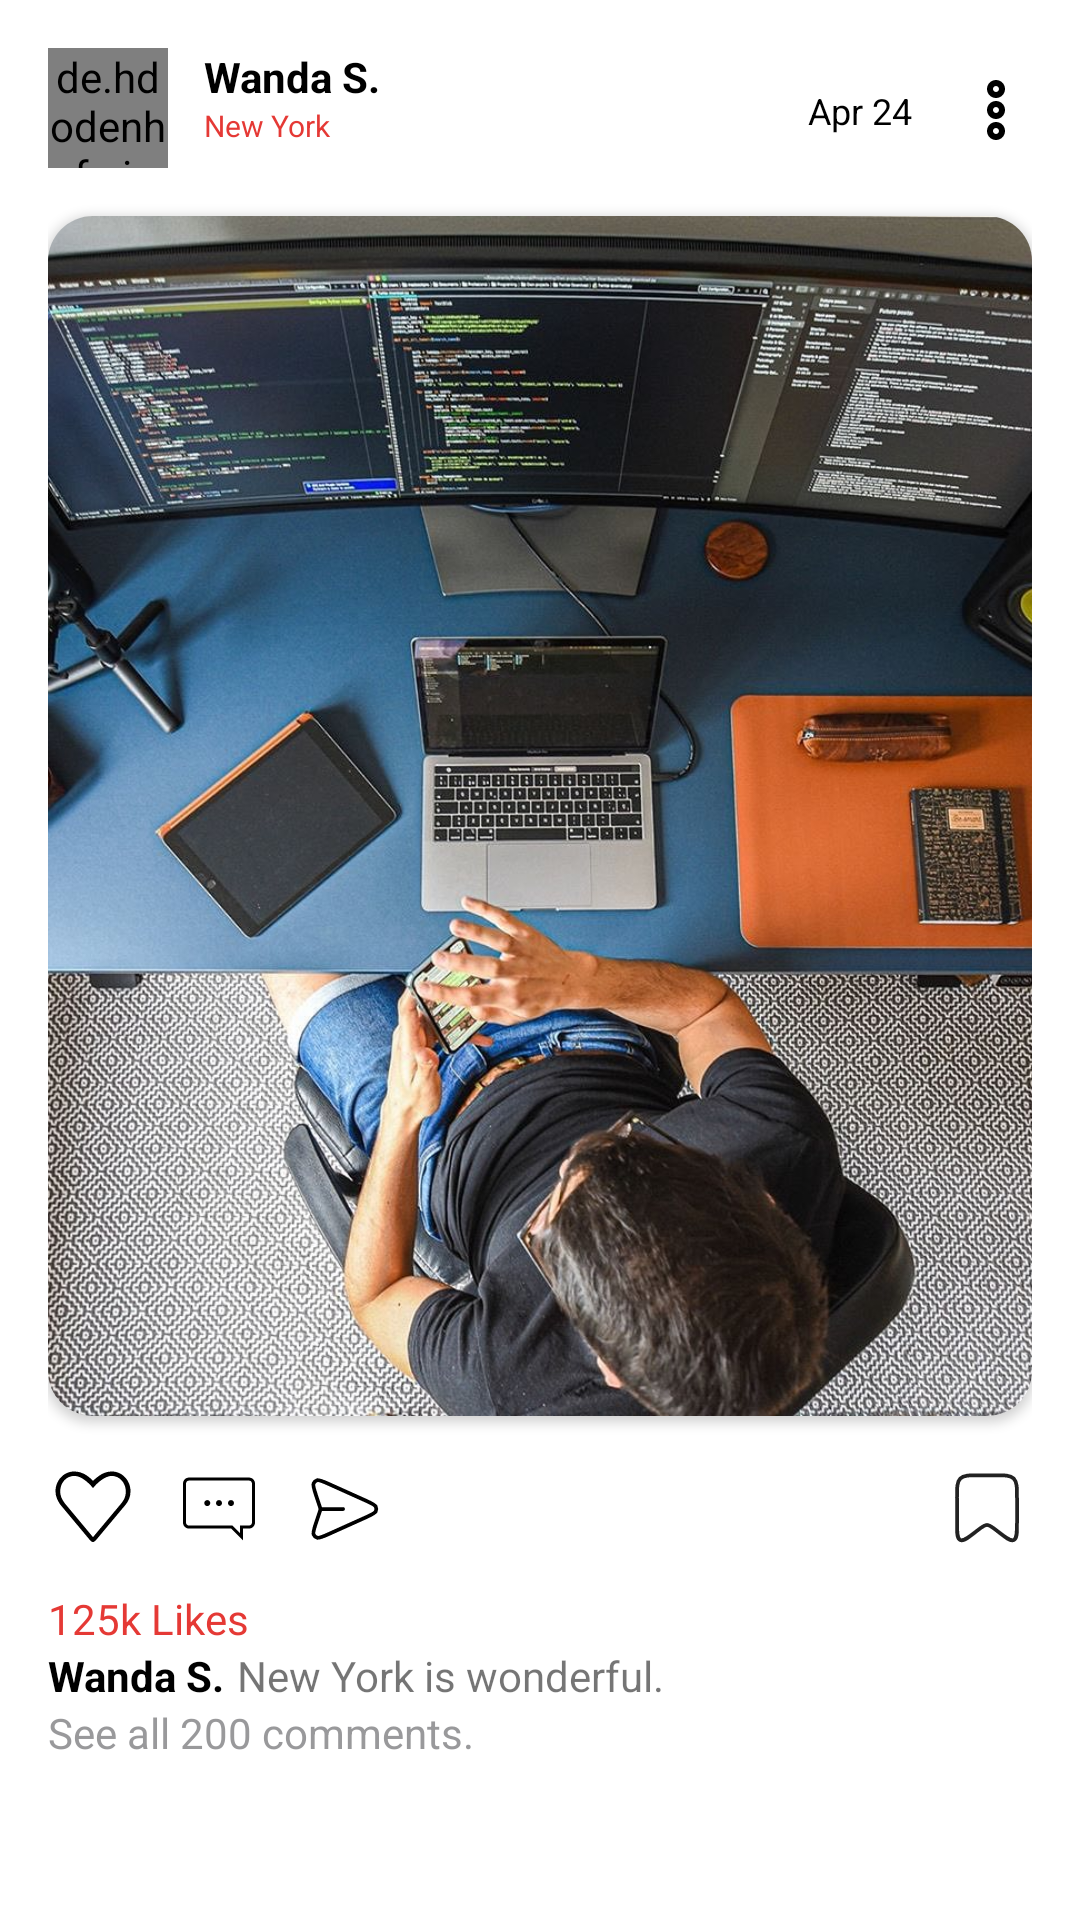

Icons on this 1080*1920 Android screen, each with the point to tap as (x,y):
not like: (93,1506)
share: (344,1509)
un bookmark: (987,1508)
vertical menu: (996,110)
